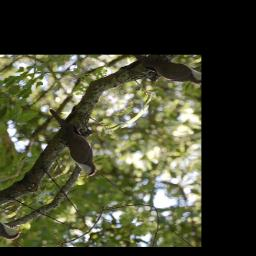Cuckoo: (20, 105, 117, 183)
